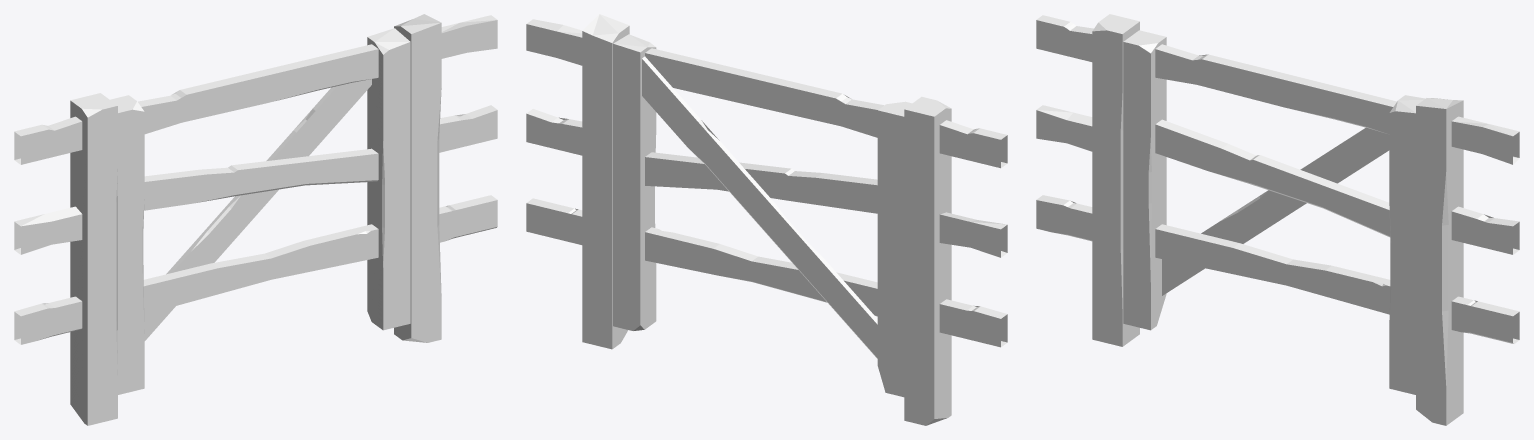
The model's file is Bld_02_Fence_Wood_Gate_Single_Short_Sides_Worned_01.glb.
3 views of the same model, side by side, from view 1: azimuth 30°, elevation 25°; view 2: azimuth 150°, elevation 25°; view 3: azimuth 330°, elevation 25° (orthographic).
Visible parts, largest first — view 1: Bld_02_Fence_Wood_Gate_Single_Short_Worned_01, Bld_02_Fence_Wood_Gate_Single_Short_Sides_Worned_01; view 2: Bld_02_Fence_Wood_Gate_Single_Short_Worned_01, Bld_02_Fence_Wood_Gate_Single_Short_Sides_Worned_01; view 3: Bld_02_Fence_Wood_Gate_Single_Short_Worned_01, Bld_02_Fence_Wood_Gate_Single_Short_Sides_Worned_01.
Boxes of the visible parts, <box> form: Bld_02_Fence_Wood_Gate_Single_Short_Worned_01: <box>110,28,410,394</box>; Bld_02_Fence_Wood_Gate_Single_Short_Sides_Worned_01: <box>14,14,497,425</box>; Bld_02_Fence_Wood_Gate_Single_Short_Worned_01: <box>613,34,911,397</box>; Bld_02_Fence_Wood_Gate_Single_Short_Sides_Worned_01: <box>526,14,1007,425</box>; Bld_02_Fence_Wood_Gate_Single_Short_Worned_01: <box>1123,30,1425,394</box>; Bld_02_Fence_Wood_Gate_Single_Short_Sides_Worned_01: <box>1036,14,1519,425</box>.
Bounding box in the file's own units: 2.44 × 1.55 × 0.155.
1 material, 1 textured.
